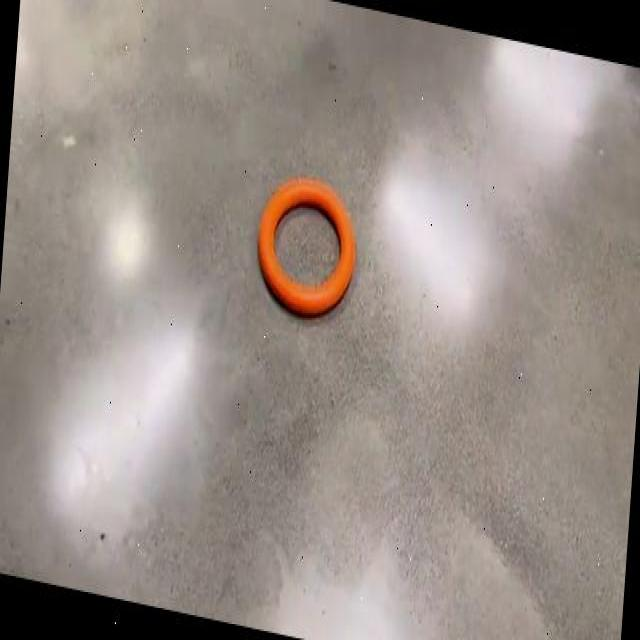note: (259, 179, 355, 314)
